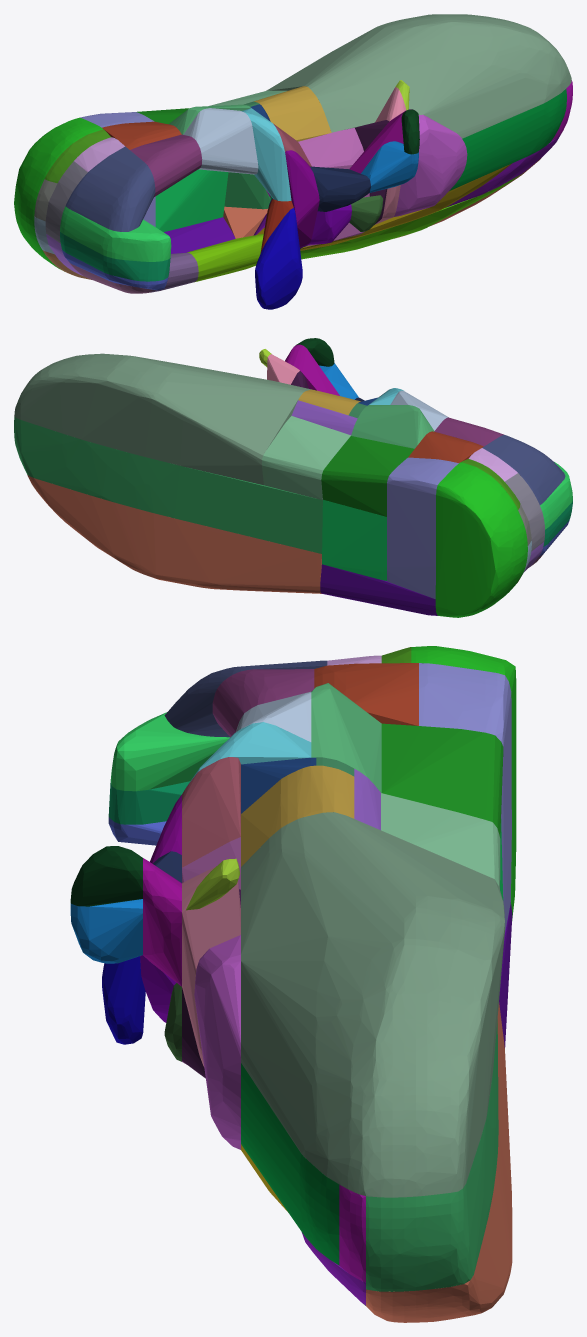
The model's file is coacd_collision.obj.
The picture shows the model from 3 angles, top to bottom: view 1: azimuth 30°, elevation 25°; view 2: azimuth 150°, elevation 25°; view 3: azimuth 270°, elevation 25°; orthographic projection. The views are drawn at different scales.
Visible parts, largest first — view 1: geometry_0, geometry_16, geometry_33, geometry_38, geometry_6, geometry_50, geometry_5, geometry_23, geometry_36, geometry_37, geometry_28, geometry_2 (+32 smaller); view 2: geometry_0, geometry_10, geometry_9, geometry_50, geometry_12, geometry_8, geometry_39, geometry_23, geometry_27, geometry_3, geometry_16, geometry_31 (+13 smaller); view 3: geometry_0, geometry_10, geometry_8, geometry_9, geometry_33, geometry_38, geometry_12, geometry_39, geometry_36, geometry_37, geometry_13, geometry_3 (+24 smaller).
Part boxes in pixels (x1,y1,x2,y2): geometry_0: (266,14,571,138); geometry_16: (65,146,155,231); geometry_33: (270,89,566,200); geometry_38: (394,114,467,216); geometry_6: (183,108,258,174); geometry_50: (14,117,102,271); geometry_5: (255,208,302,309); geometry_23: (155,169,228,231); geometry_36: (60,206,171,261); geometry_37: (254,86,331,141); geometry_28: (130,134,202,196); geometry_2: (241,108,291,201); geometry_0: (14,353,311,485); geometry_10: (14,416,322,553); geometry_9: (27,474,321,593); geometry_50: (435,462,527,617); geometry_12: (387,457,458,598); geometry_8: (321,436,414,516); geometry_39: (262,416,350,500); geometry_23: (322,499,386,580); geometry_27: (320,564,438,615); geometry_3: (351,405,434,448); geometry_16: (482,435,565,504); geometry_31: (408,431,483,463); geometry_0: (241,812,504,1197); geometry_10: (366,1019,498,1291); geometry_8: (381,723,503,837); geometry_9: (366,1002,512,1322); geometry_33: (241,1063,339,1265); geometry_38: (194,935,240,1149); geometry_12: (419,663,511,933); geometry_39: (381,793,500,888); geometry_36: (110,712,229,791); geometry_37: (241,765,354,866); geometry_13: (182,757,240,867); geometry_3: (311,683,381,792).
Size of the model in its own units: 244 by 91.63 by 92.54.
